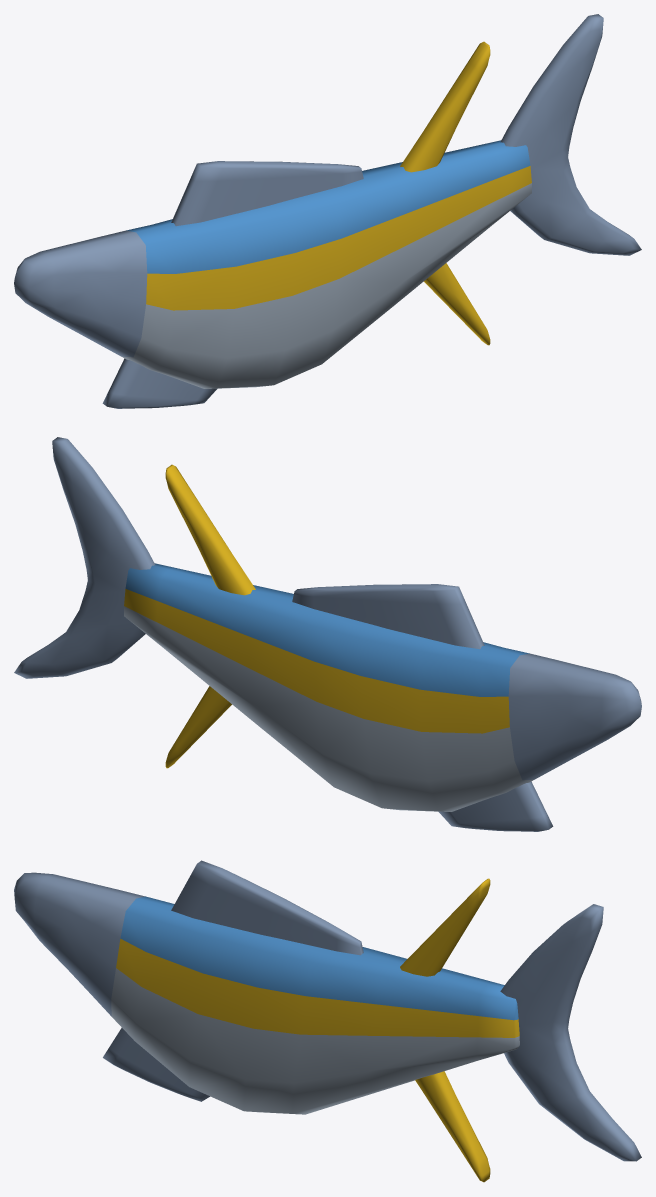
The model's file is Prop_Fish_Tuna.gltf.
3 renders of one model, top to bottom at view 1: azimuth 30°, elevation 25°; view 2: azimuth 150°, elevation 25°; view 3: azimuth 330°, elevation 25°, orthographic.
Parts seen in each view (by area): view 1: Prop_Fish_Tuna; view 2: Prop_Fish_Tuna; view 3: Prop_Fish_Tuna.
Part boxes in pixels (left/top/right/bottom): Prop_Fish_Tuna: left=14, top=14, right=641, bottom=408; Prop_Fish_Tuna: left=14, top=437, right=641, bottom=831; Prop_Fish_Tuna: left=14, top=860, right=641, bottom=1182.
Bounding box in the file's own units: 2.13 × 0.9759 × 0.2367.
Materials: 1 (1 with a texture image).
